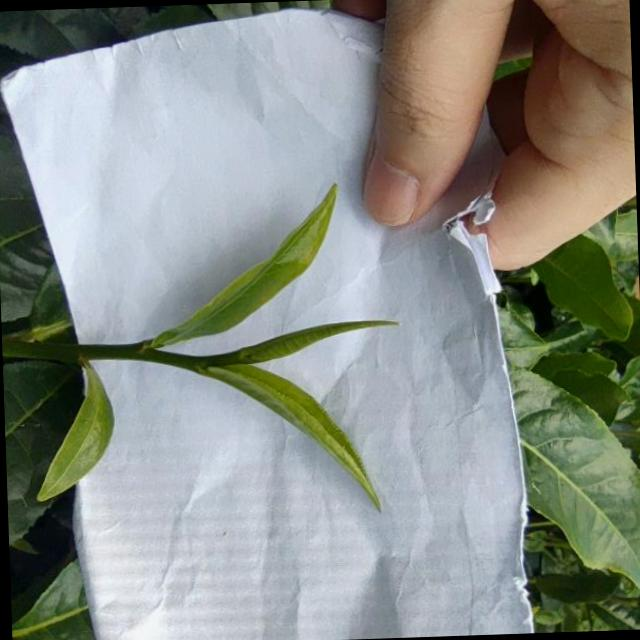Stem: (173, 355, 190, 367)
